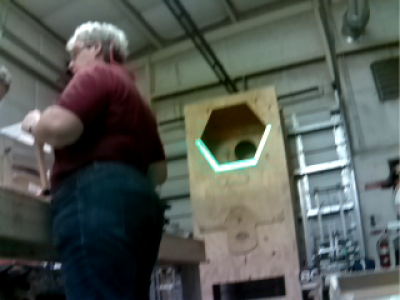target: (195, 123, 271, 172)
